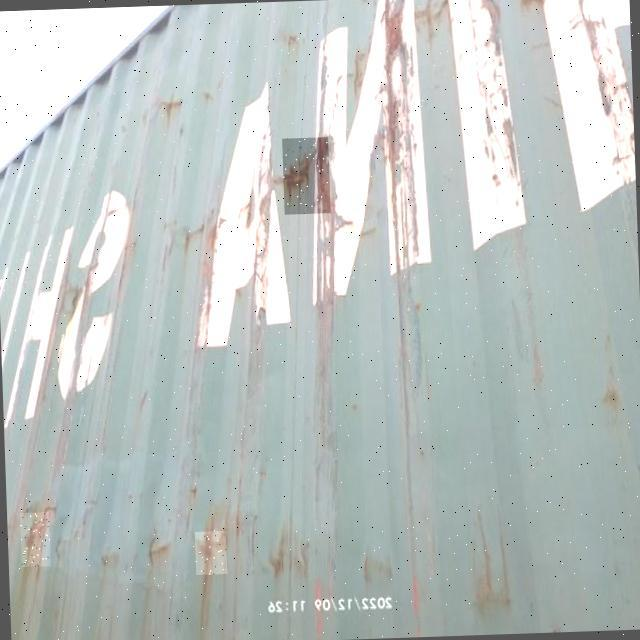Rust: (282, 137, 331, 217), (20, 512, 51, 567), (195, 531, 227, 575)
